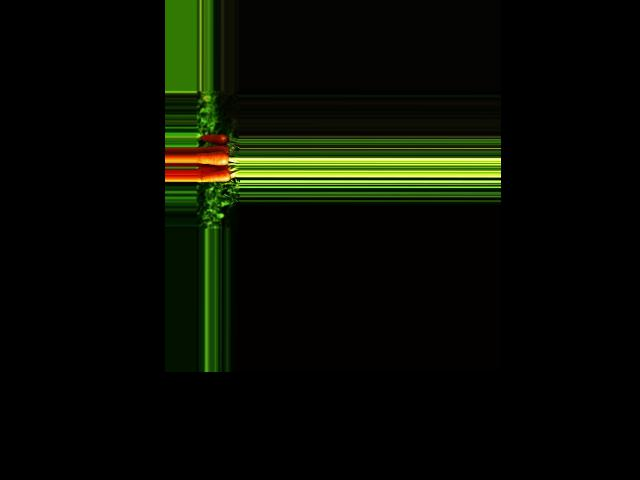carrot: (195, 131, 229, 146)
